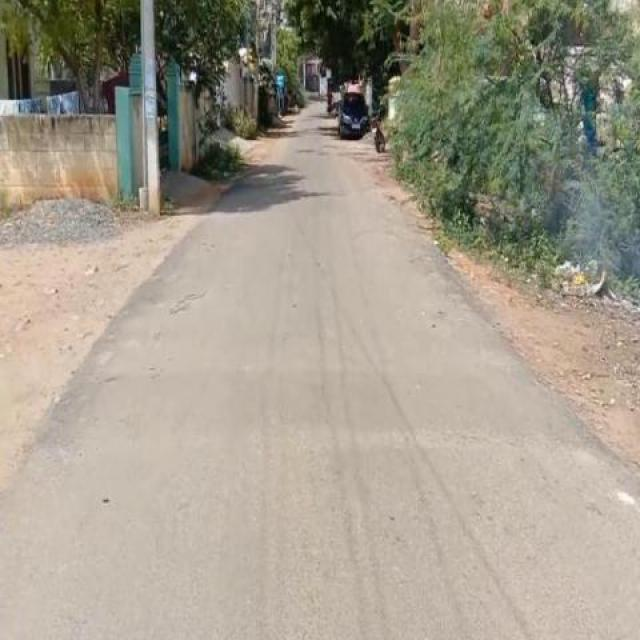Unmarked Bump: (46, 366, 589, 441)
